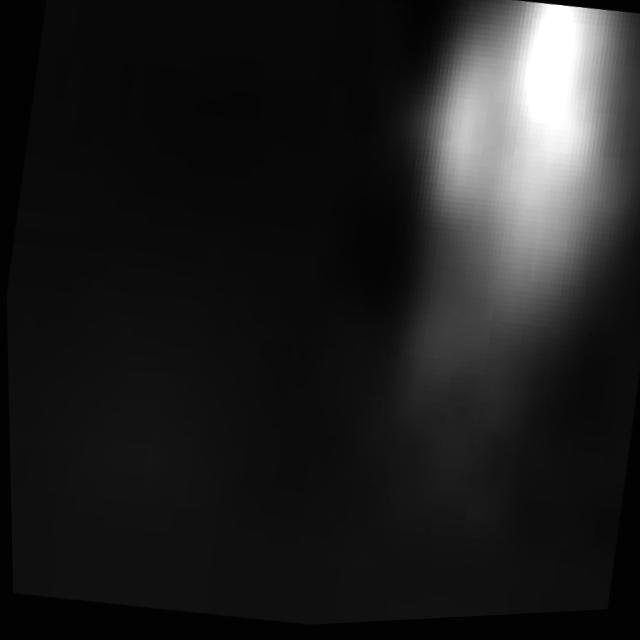person: (370, 1, 640, 526)
